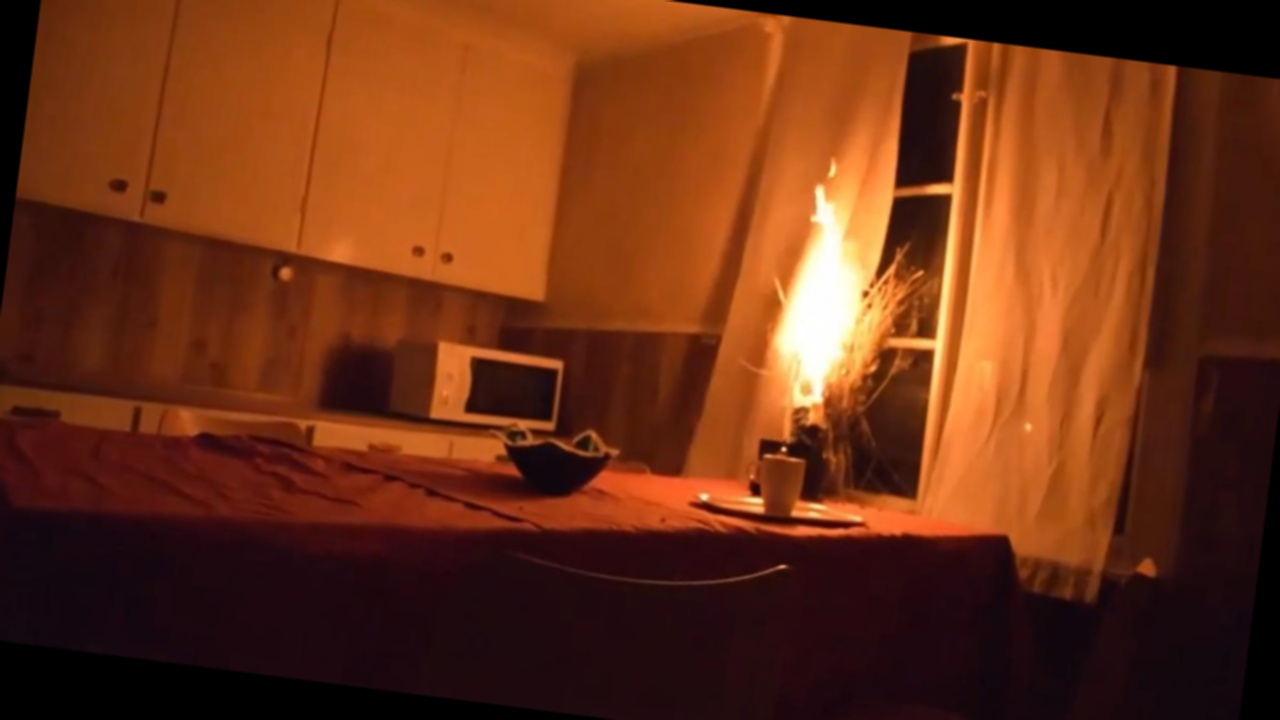fire: (722, 138, 906, 443)
